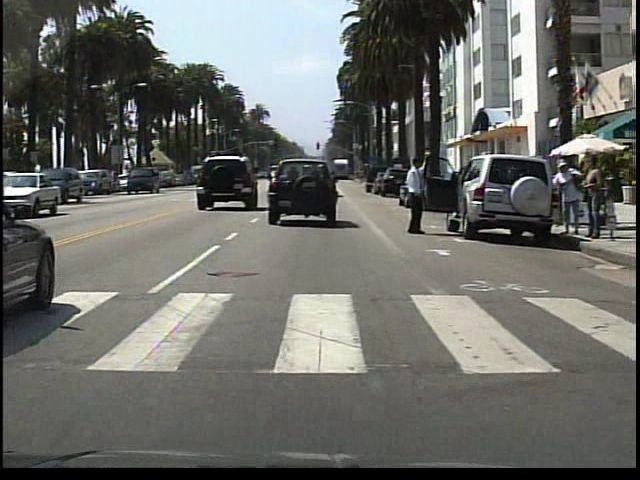person: (403, 151, 438, 244), (552, 153, 582, 242), (582, 152, 605, 244)
